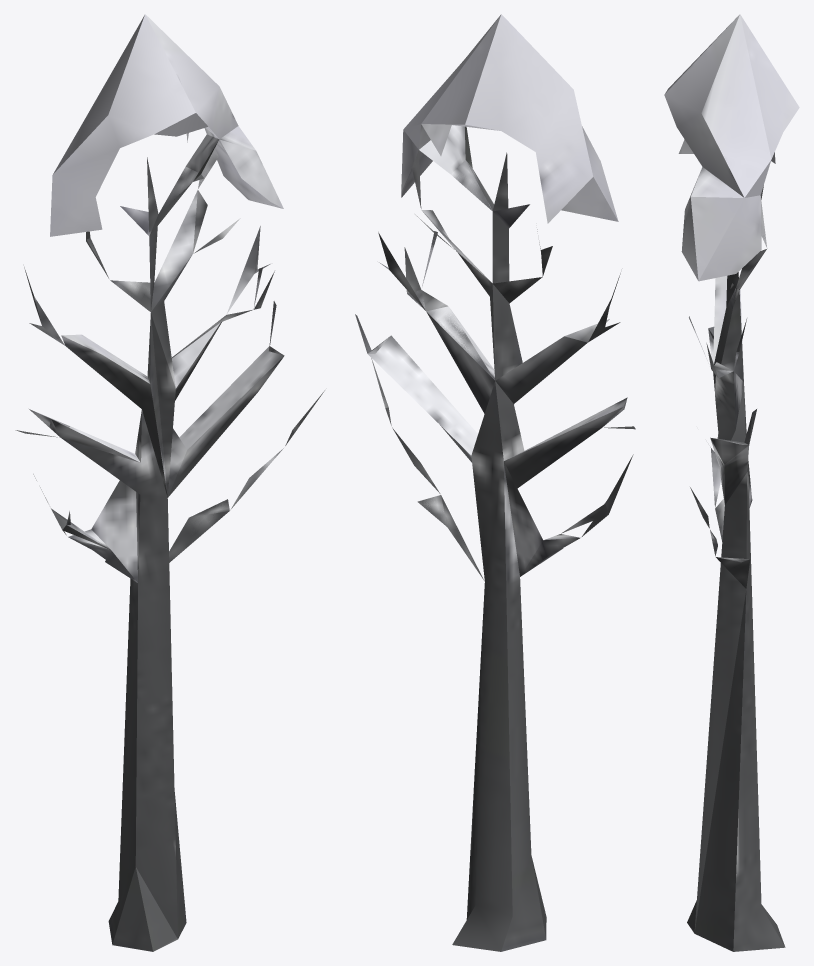
Rendered from tree_beech_winter.lod3.glb.
3 views of the same model, side by side, from view 1: azimuth 30°, elevation 25°; view 2: azimuth 150°, elevation 25°; view 3: azimuth 270°, elevation 25° (orthographic).
Parts seen in each view (by area): view 1: tree_beech_winter.lod3_uv; view 2: tree_beech_winter.lod3_uv; view 3: tree_beech_winter.lod3_uv.
Boxes of the visible parts, x1=… form: tree_beech_winter.lod3_uv: x1=15, y1=14, x2=324, y2=951; tree_beech_winter.lod3_uv: x1=355, y1=14, x2=635, y2=951; tree_beech_winter.lod3_uv: x1=664, y1=14, x2=799, y2=951.
Bounding box in the file's own units: 0.6287 × 1.91 × 0.2543.
1 material, 1 textured.
